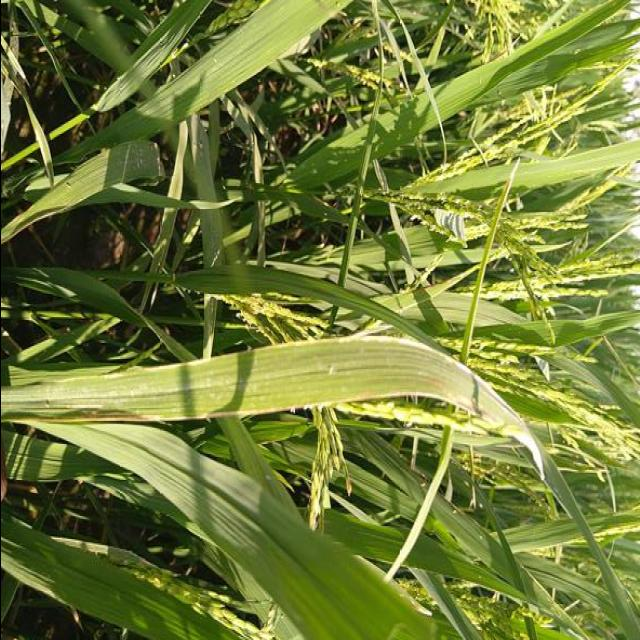Leaf Blight: (1, 336, 542, 474)
